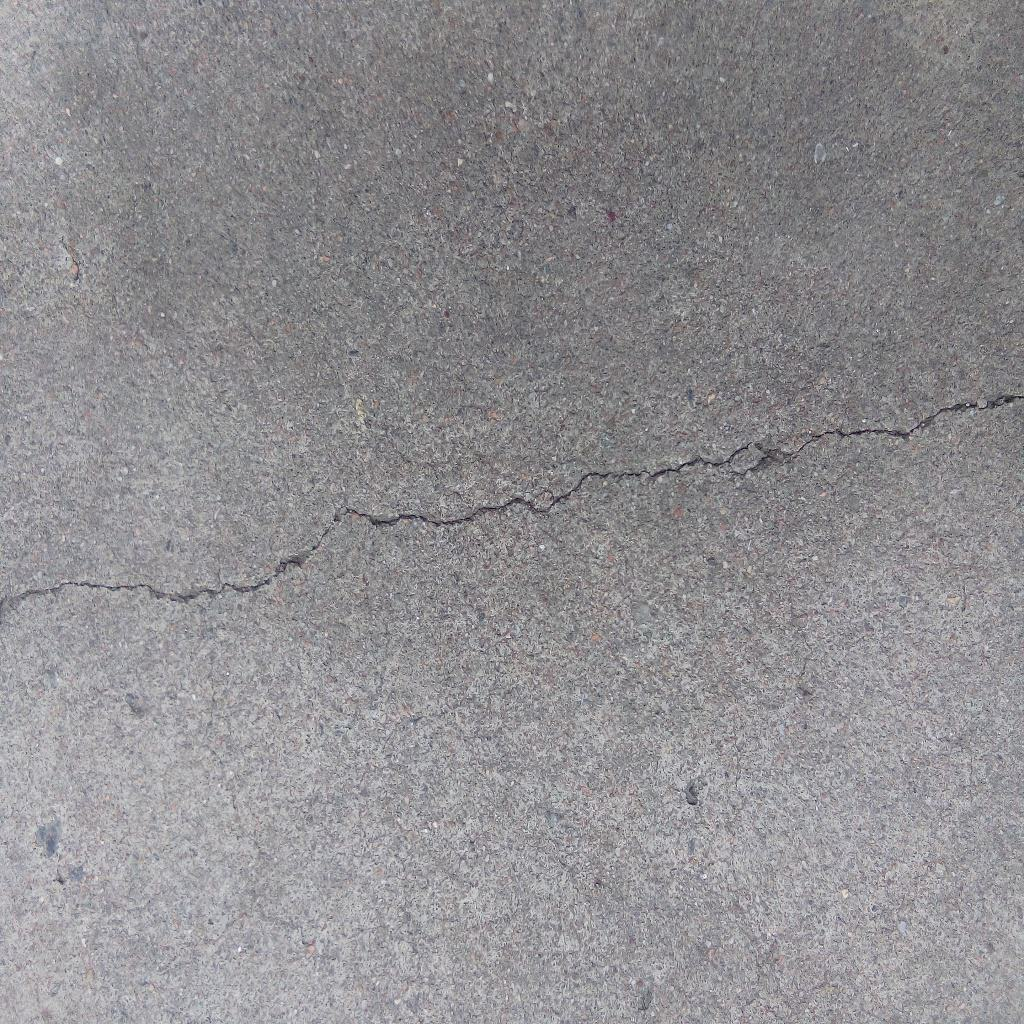Crack: (1, 391, 1024, 615)
